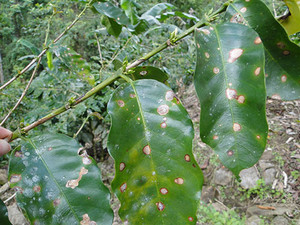ojo de gallo: (116, 82, 196, 225), (198, 28, 265, 161), (19, 140, 106, 223)
